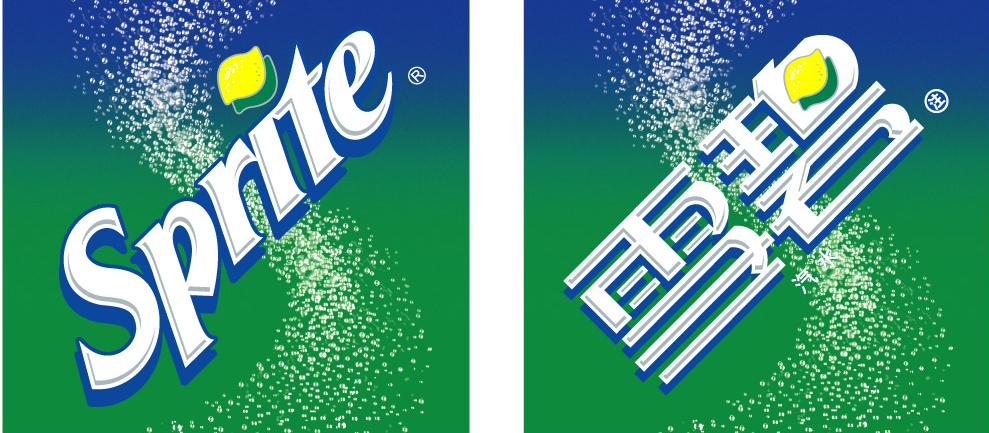sprite: (61, 29, 394, 399)
